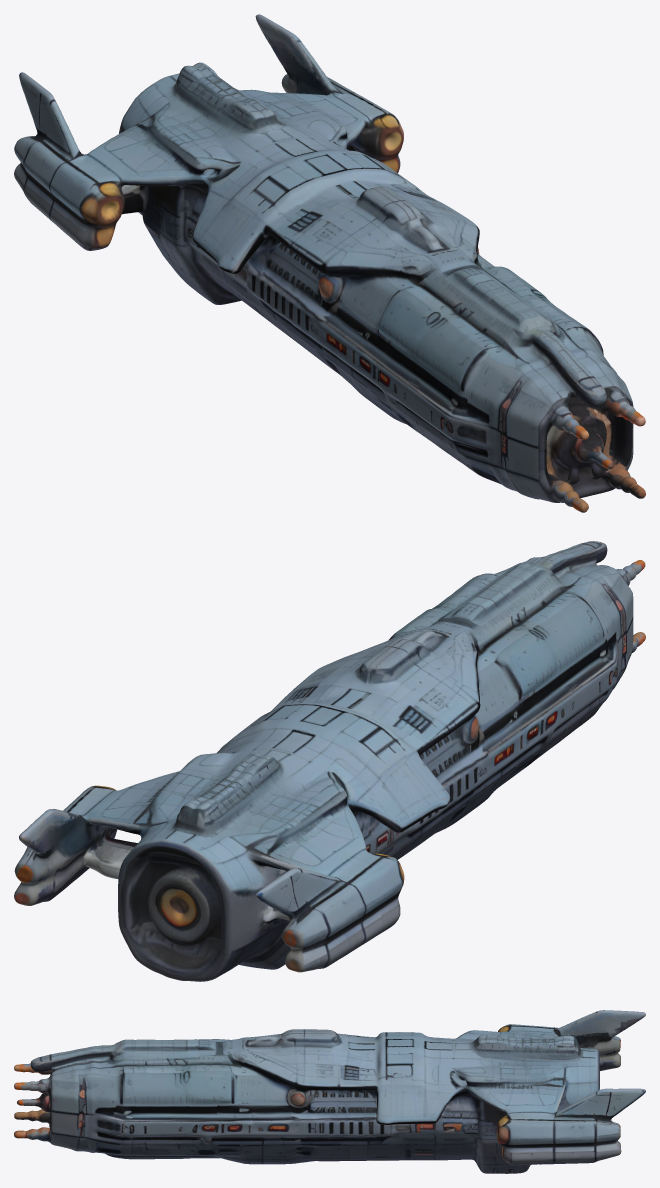
Rendered from ship00002.glb.
3 views of the same model, one above another, from view 1: azimuth 30°, elevation 25°; view 2: azimuth 150°, elevation 25°; view 3: azimuth 270°, elevation 25° (orthographic). The views are drawn at different scales.
Parts seen in each view (by area): view 1: tripo_node_52c8b54c-388d-433d-94d3-835d2d3479b1; view 2: tripo_node_52c8b54c-388d-433d-94d3-835d2d3479b1; view 3: tripo_node_52c8b54c-388d-433d-94d3-835d2d3479b1.
Part boxes in pixels (x1,y1,x2,y2): tripo_node_52c8b54c-388d-433d-94d3-835d2d3479b1: [14, 14, 645, 512]; tripo_node_52c8b54c-388d-433d-94d3-835d2d3479b1: [14, 541, 645, 981]; tripo_node_52c8b54c-388d-433d-94d3-835d2d3479b1: [14, 1010, 645, 1173].
Bounding box in the file's own units: 0.3708 × 0.212 × 0.9463.
Materials: 1 (1 with a texture image).
